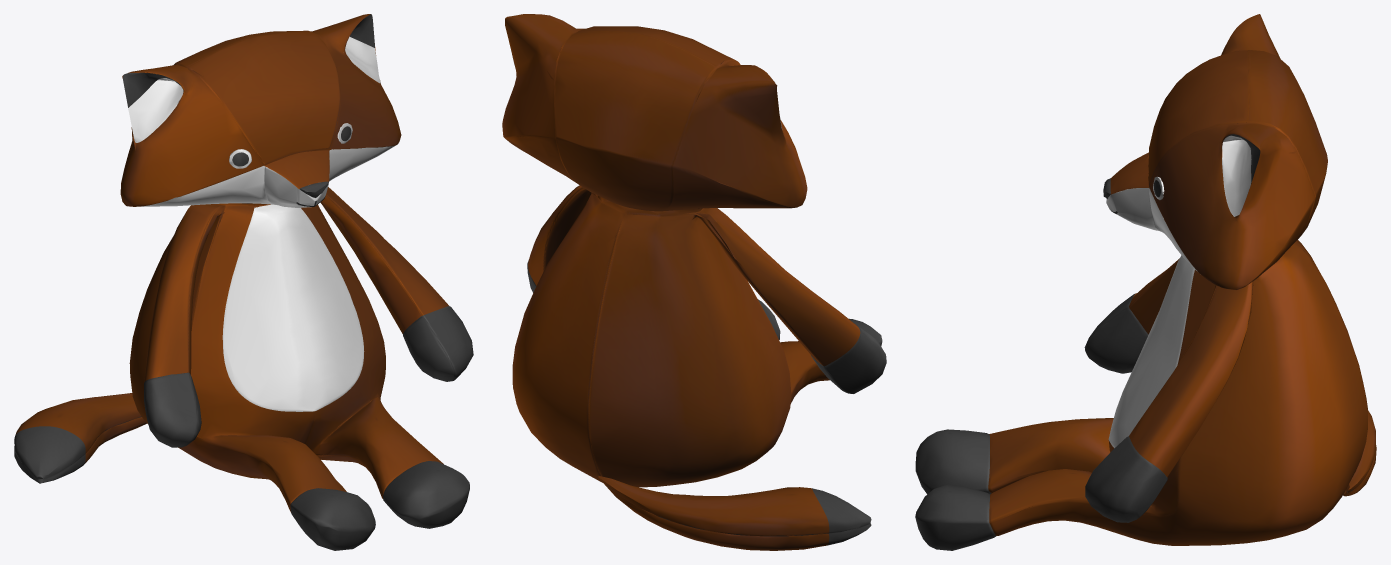
3 renders of one model, left to right at view 1: azimuth 30°, elevation 25°; view 2: azimuth 150°, elevation 25°; view 3: azimuth 270°, elevation 25°, orthographic. The views are drawn at different scales.
Visible parts, largest first — view 1: solid_002, solid_001, solid_005; view 2: solid_002, solid_005; view 3: solid_002, solid_005, solid_001.
Boxes of the visible parts, x1,y1,x2,y2 form: solid_002: [15, 14, 448, 512]; solid_001: [128, 36, 395, 411]; solid_005: [14, 14, 473, 550]; solid_002: [502, 14, 860, 550]; solid_005: [527, 73, 886, 545]; solid_002: [988, 14, 1376, 545]; solid_005: [915, 134, 1353, 550]; solid_001: [1106, 135, 1251, 448].
Size of the model in its own units: 1.3 by 1.35 by 1.24.
1 material, 1 textured.
